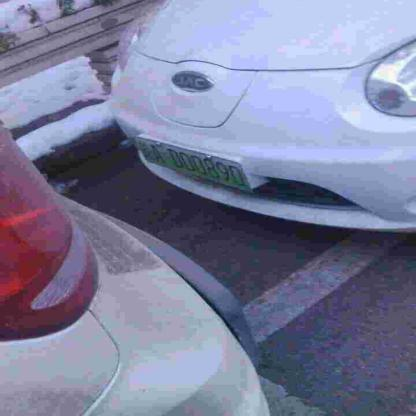lp: (134, 135, 251, 193)
